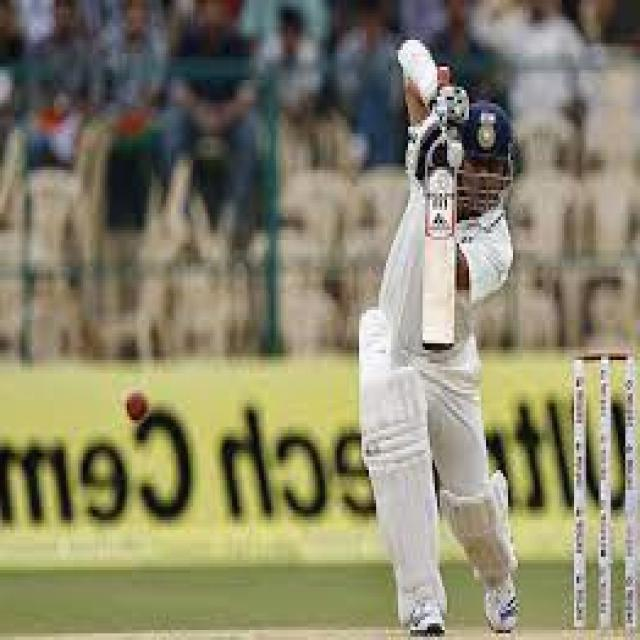bat: (422, 178, 454, 353)
